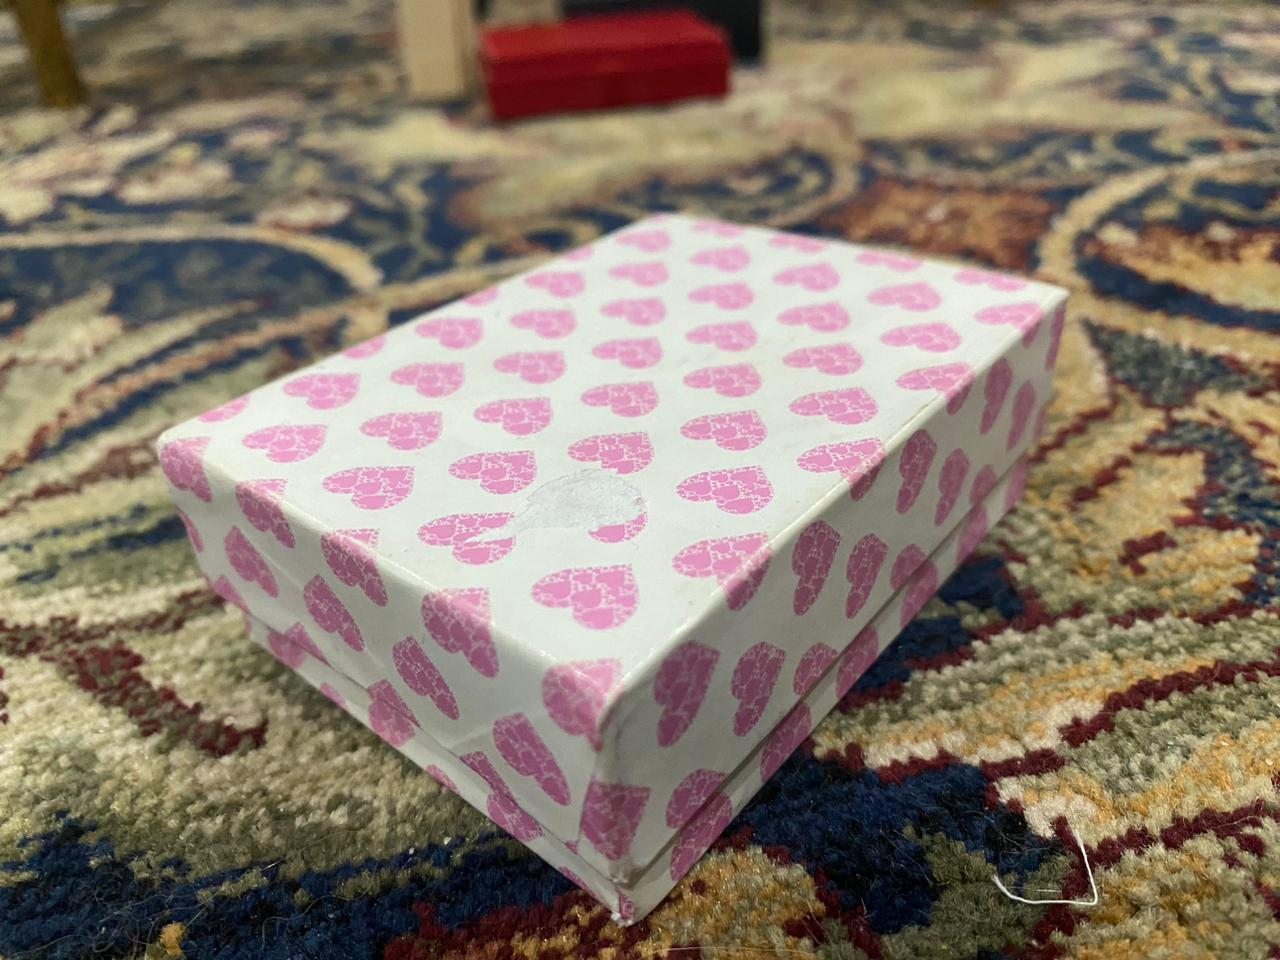Pink Box: (158, 209, 1076, 927)
Red Box: (482, 11, 737, 128)
